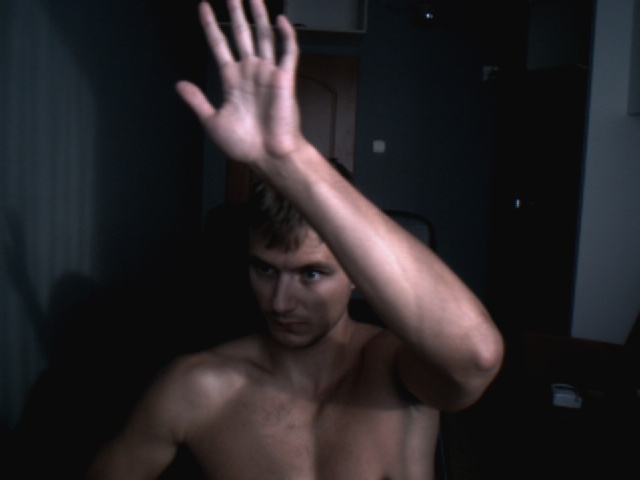open: (174, 1, 303, 159)
